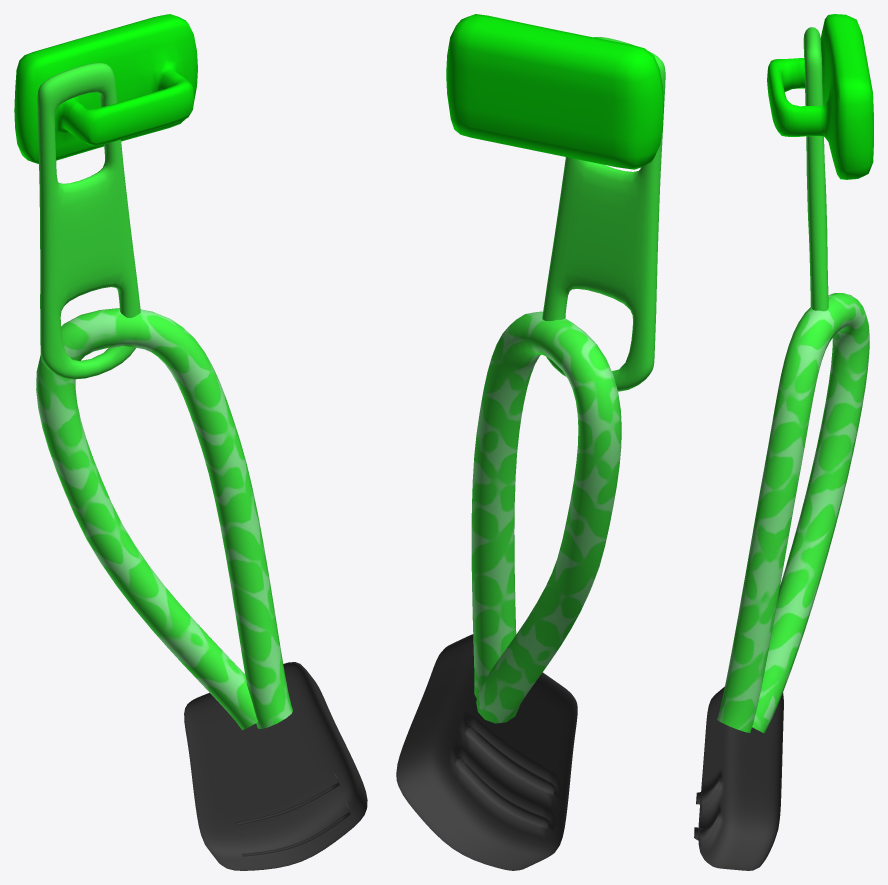
Rendered from Zipv2-transformed.glb.
3 views of the same model, side by side, from view 1: azimuth 30°, elevation 25°; view 2: azimuth 150°, elevation 25°; view 3: azimuth 270°, elevation 25° (orthographic). The views are drawn at different scales.
Visible parts, largest first — view 1: zip string, Cube, zip hook, zip base; view 2: zip string, Cube, zip base, zip hook; view 3: zip string, Cube, zip base, zip hook.
Boxes of the visible parts, x1,y1,x2,y2 form: zip string: [36, 308, 292, 729]; Cube: [184, 662, 367, 870]; zip hook: [37, 62, 140, 379]; zip base: [14, 14, 197, 163]; zip string: [471, 311, 621, 723]; Cube: [396, 634, 577, 870]; zip base: [446, 14, 663, 169]; zip hook: [542, 37, 665, 391]; zip string: [717, 293, 869, 733]; Cube: [694, 686, 783, 870]; zip base: [767, 14, 873, 179]; zip hook: [803, 27, 828, 311].
Bounding box in the file's own units: 0.0196 × 0.0527 × 0.0112.
4 materials, 1 textured.
